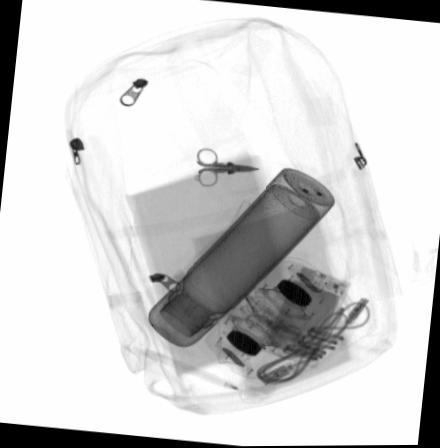Powerbank: (253, 264, 351, 369)
Scissors: (193, 148, 261, 188)
